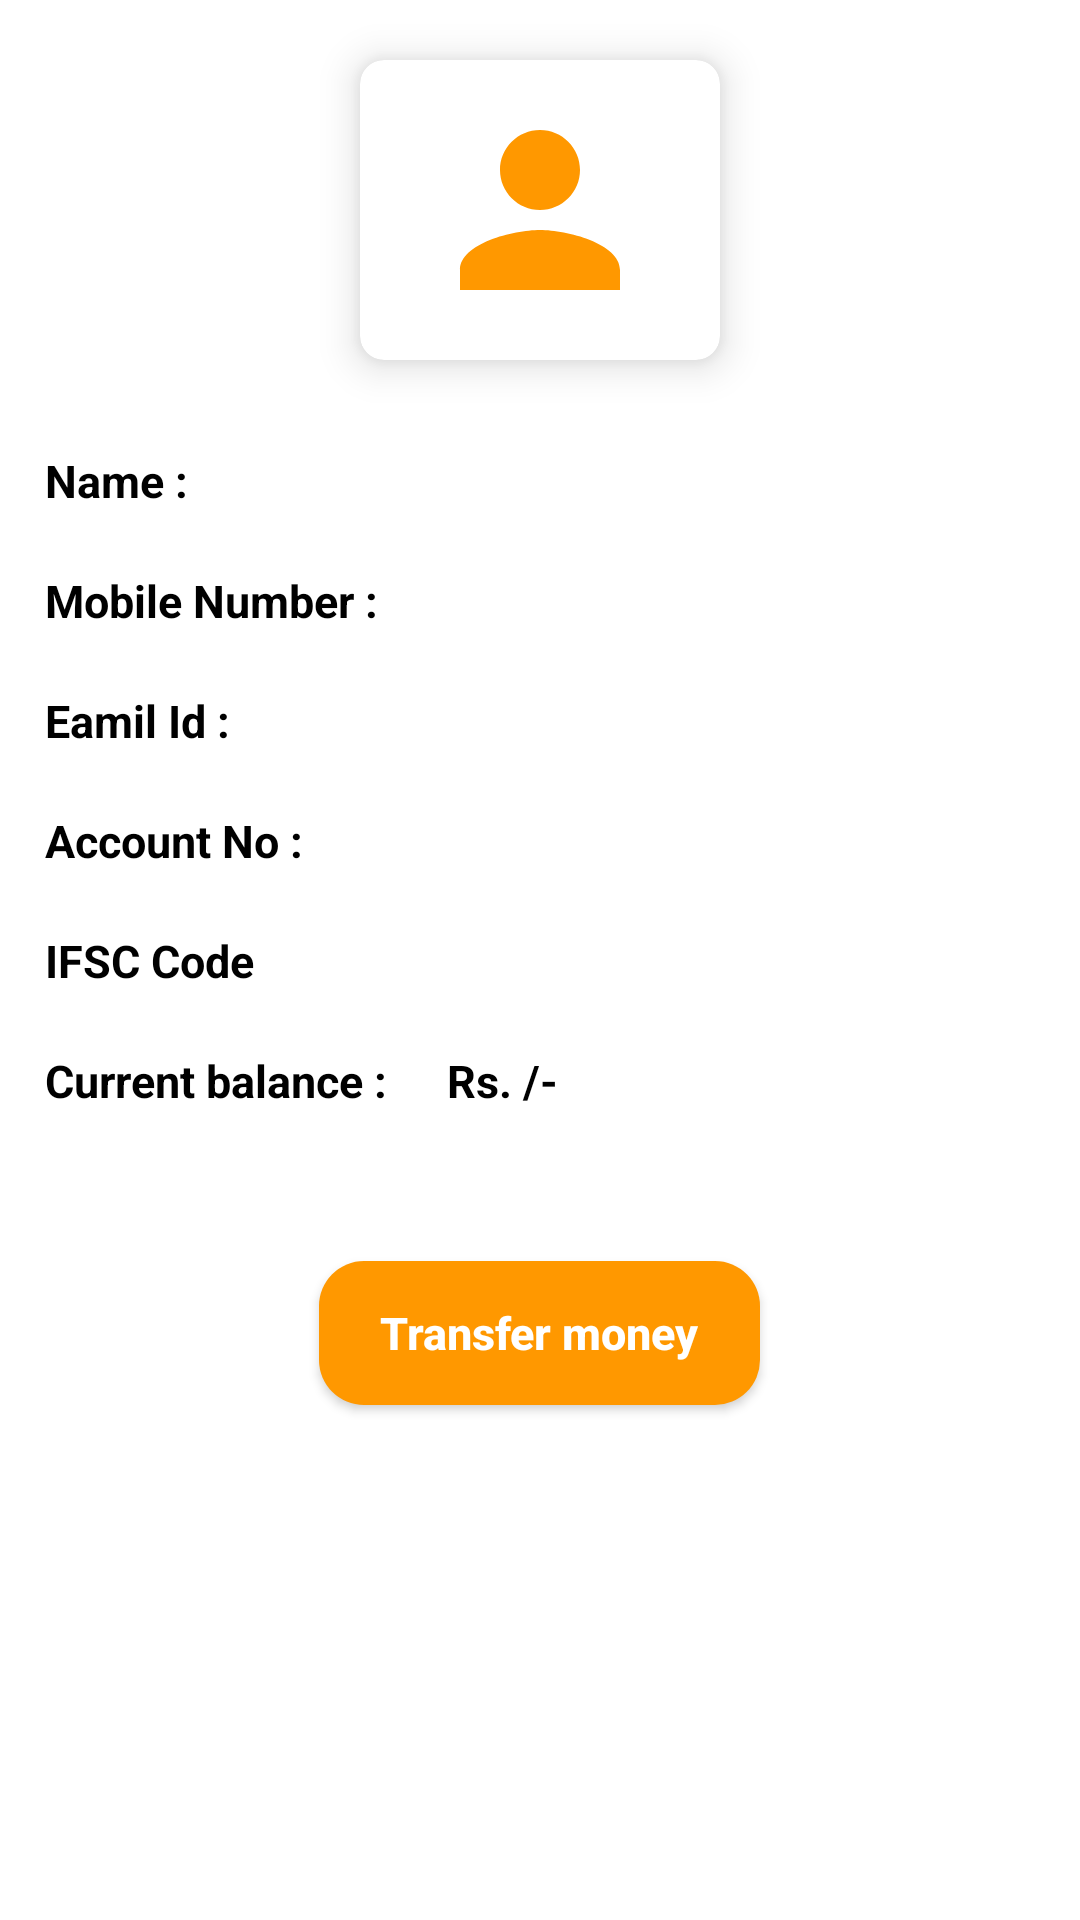

Icons on this 1080*1920 Android screen, each with its box as (x1, y1, x2, y2):
user: (460, 130, 620, 290)
